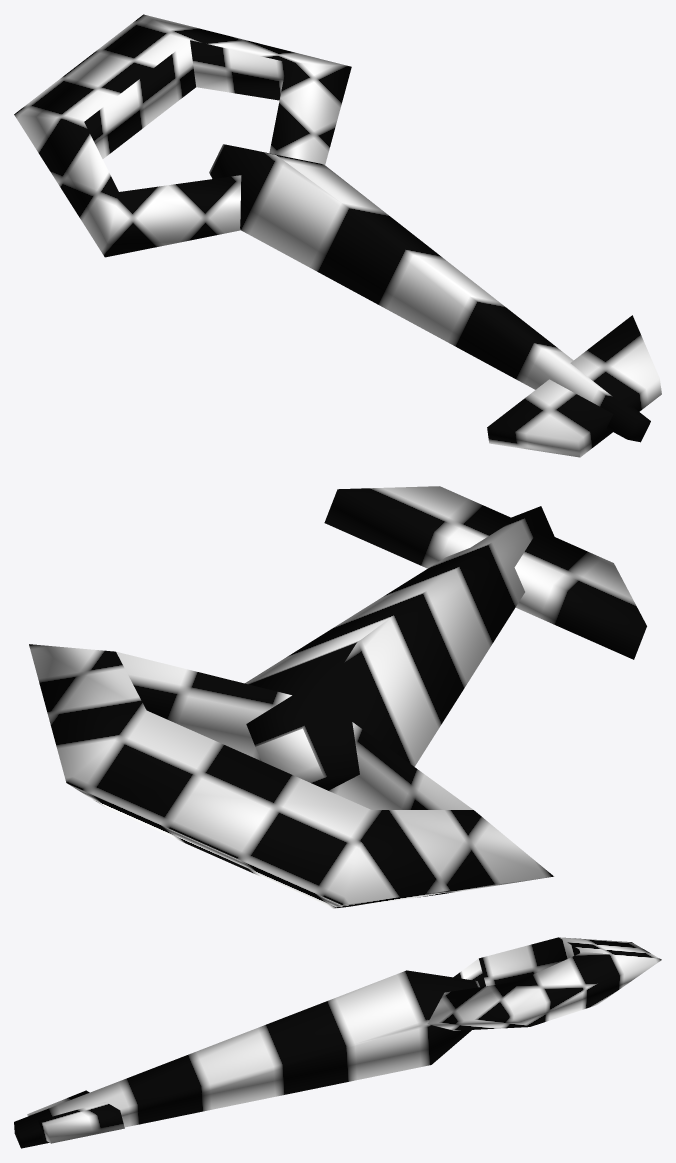
The model's file is initqu74.dae.
3 renders of one model, top to bottom at view 1: azimuth 30°, elevation 25°; view 2: azimuth 150°, elevation 25°; view 3: azimuth 270°, elevation 25°, orthographic. The views are drawn at different scales.
Parts seen in each view (by area): view 1: item; view 2: item; view 3: item.
Part boxes in pixels (x1,y1,x2,y2): item: (14, 14, 661, 457); item: (29, 486, 646, 908); item: (14, 937, 661, 1148).
Size of the model in its own units: 0.8117 by 1.64 by 0.4384.
1 material, 1 textured.
